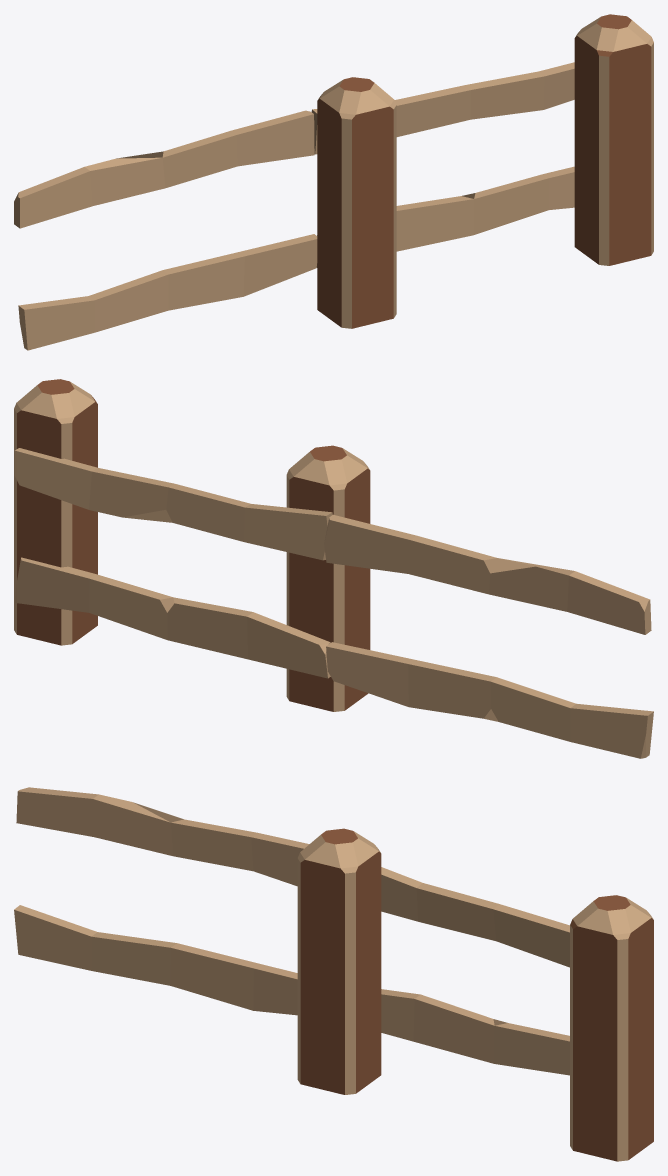
File: Cerca.fbx
3 renders of one model, top to bottom at view 1: azimuth 30°, elevation 25°; view 2: azimuth 150°, elevation 25°; view 3: azimuth 330°, elevation 25°, orthographic. The views are drawn at different scales.
Visible parts, largest first — view 1: Cube.022, Cube.025; view 2: Cube.022, Cube.025; view 3: Cube.025, Cube.022.
Boxes of the visible parts, <box> form: Cube.022: <box>14,62,574,350</box>; Cube.025: <box>317,14,653,328</box>; Cube.022: <box>14,448,653,758</box>; Cube.025: <box>14,379,370,711</box>; Cube.025: <box>297,828,653,1161</box>; Cube.022: <box>14,787,569,1075</box>.
Bounding box in the file's own units: 851 × 305 × 99.88.
